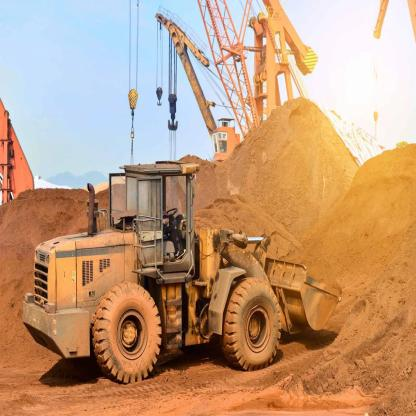bull_dozer/loader/grader: (33, 148, 348, 380)
